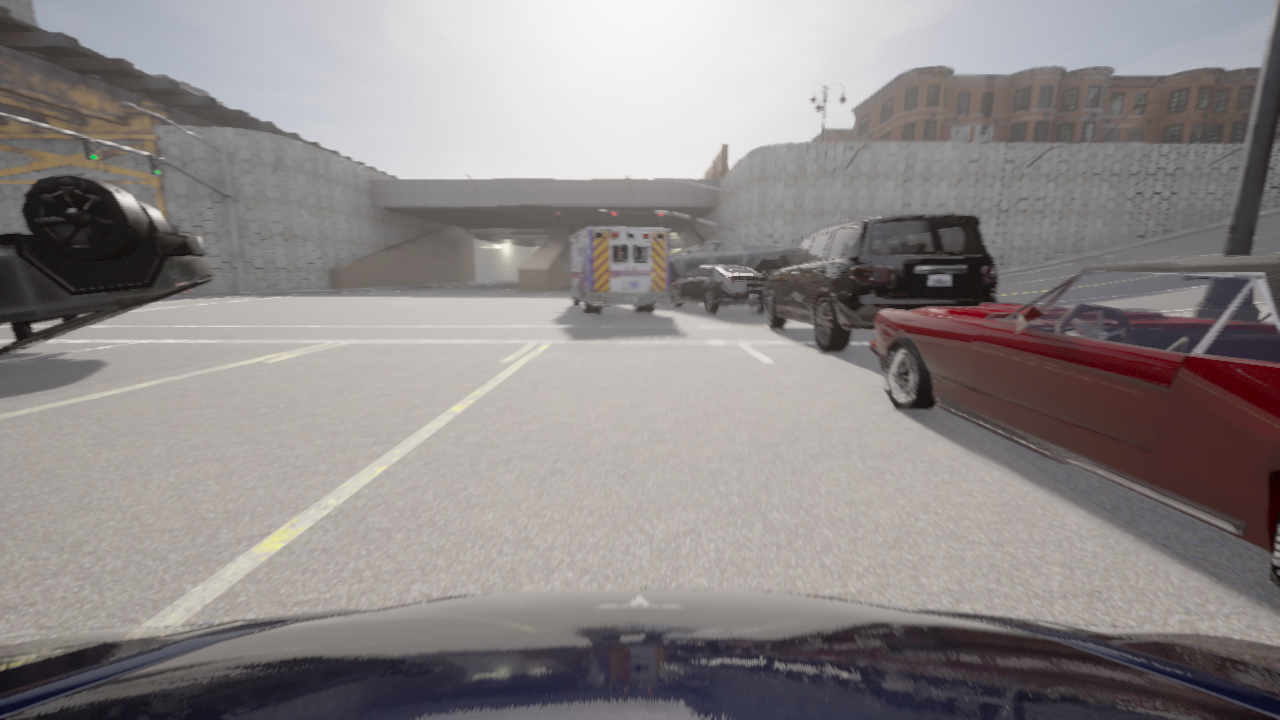cyclist: (0, 588, 1279, 719), (870, 254, 1279, 588), (0, 173, 214, 356), (764, 214, 998, 351), (563, 226, 671, 313), (669, 240, 797, 297), (670, 264, 769, 314)
